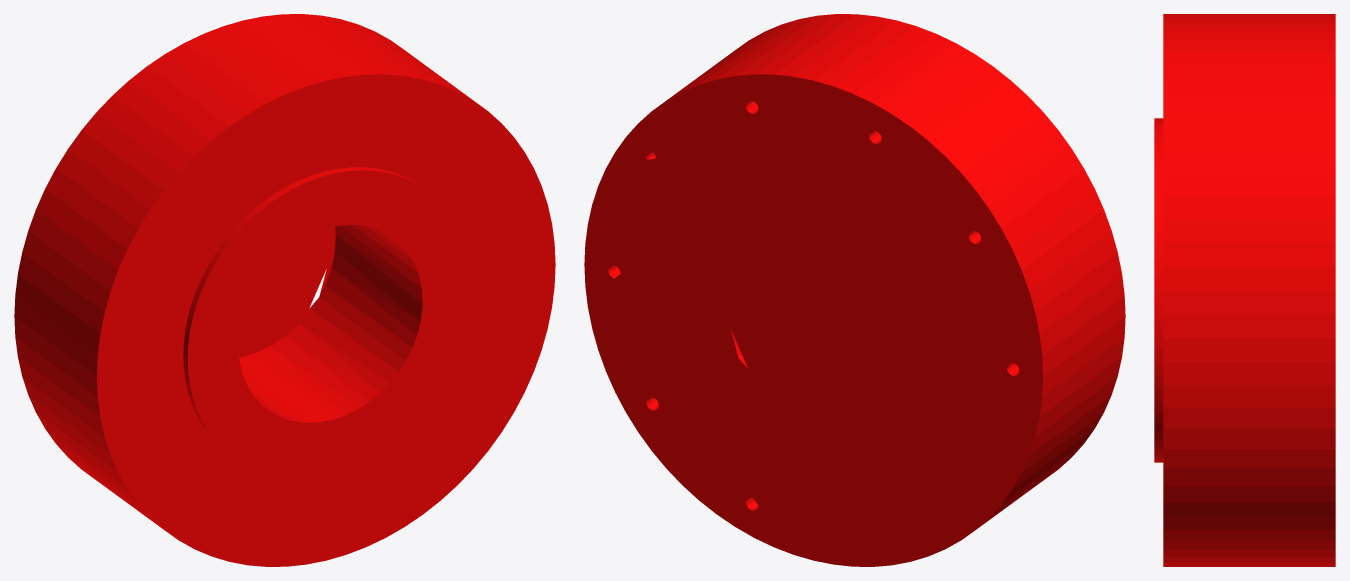
The model's file is legs_1_left_leg_1_x10_2_outer_1.glb.
3 views of the same model, side by side, from view 1: azimuth 30°, elevation 25°; view 2: azimuth 150°, elevation 25°; view 3: azimuth 270°, elevation 25° (orthographic). The views are drawn at different scales.
Visible parts, largest first — view 1: legs_1_left_leg_1_x10_2_outer_1.obj; view 2: legs_1_left_leg_1_x10_2_outer_1.obj; view 3: legs_1_left_leg_1_x10_2_outer_1.obj.
Part boxes in pixels (x1=…): legs_1_left_leg_1_x10_2_outer_1.obj: x1=14, y1=14, x2=555, y2=566; legs_1_left_leg_1_x10_2_outer_1.obj: x1=584, y1=14, x2=1125, y2=566; legs_1_left_leg_1_x10_2_outer_1.obj: x1=1154, y1=14, x2=1335, y2=566.
Size of the model in its own units: 0.122 by 0.122 by 0.04.
